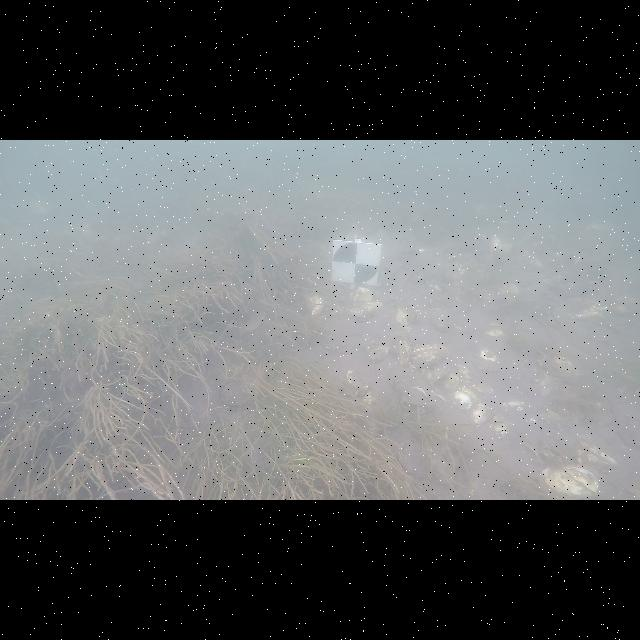Oyster-Closed: (541, 466, 599, 498), (411, 344, 449, 368), (502, 400, 536, 422), (351, 288, 381, 310), (491, 419, 518, 441), (344, 367, 366, 392), (421, 366, 448, 385), (394, 335, 411, 365), (306, 294, 325, 318), (476, 349, 496, 371), (366, 346, 390, 361), (471, 404, 488, 425), (454, 391, 472, 409), (394, 306, 408, 326), (361, 390, 374, 407)
Oyster-Open: (398, 382, 444, 412), (349, 301, 382, 321), (394, 440, 411, 474), (410, 309, 422, 325)
